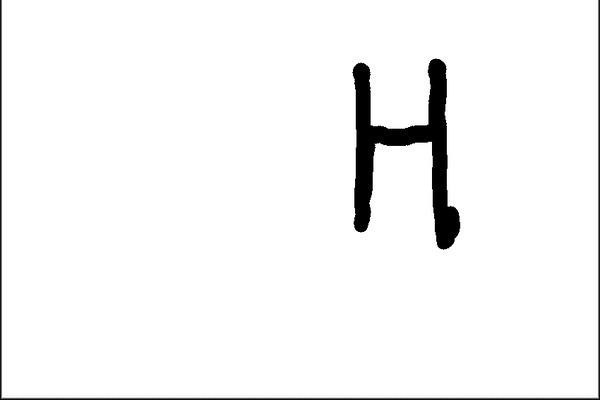H: (343, 43, 461, 256)
